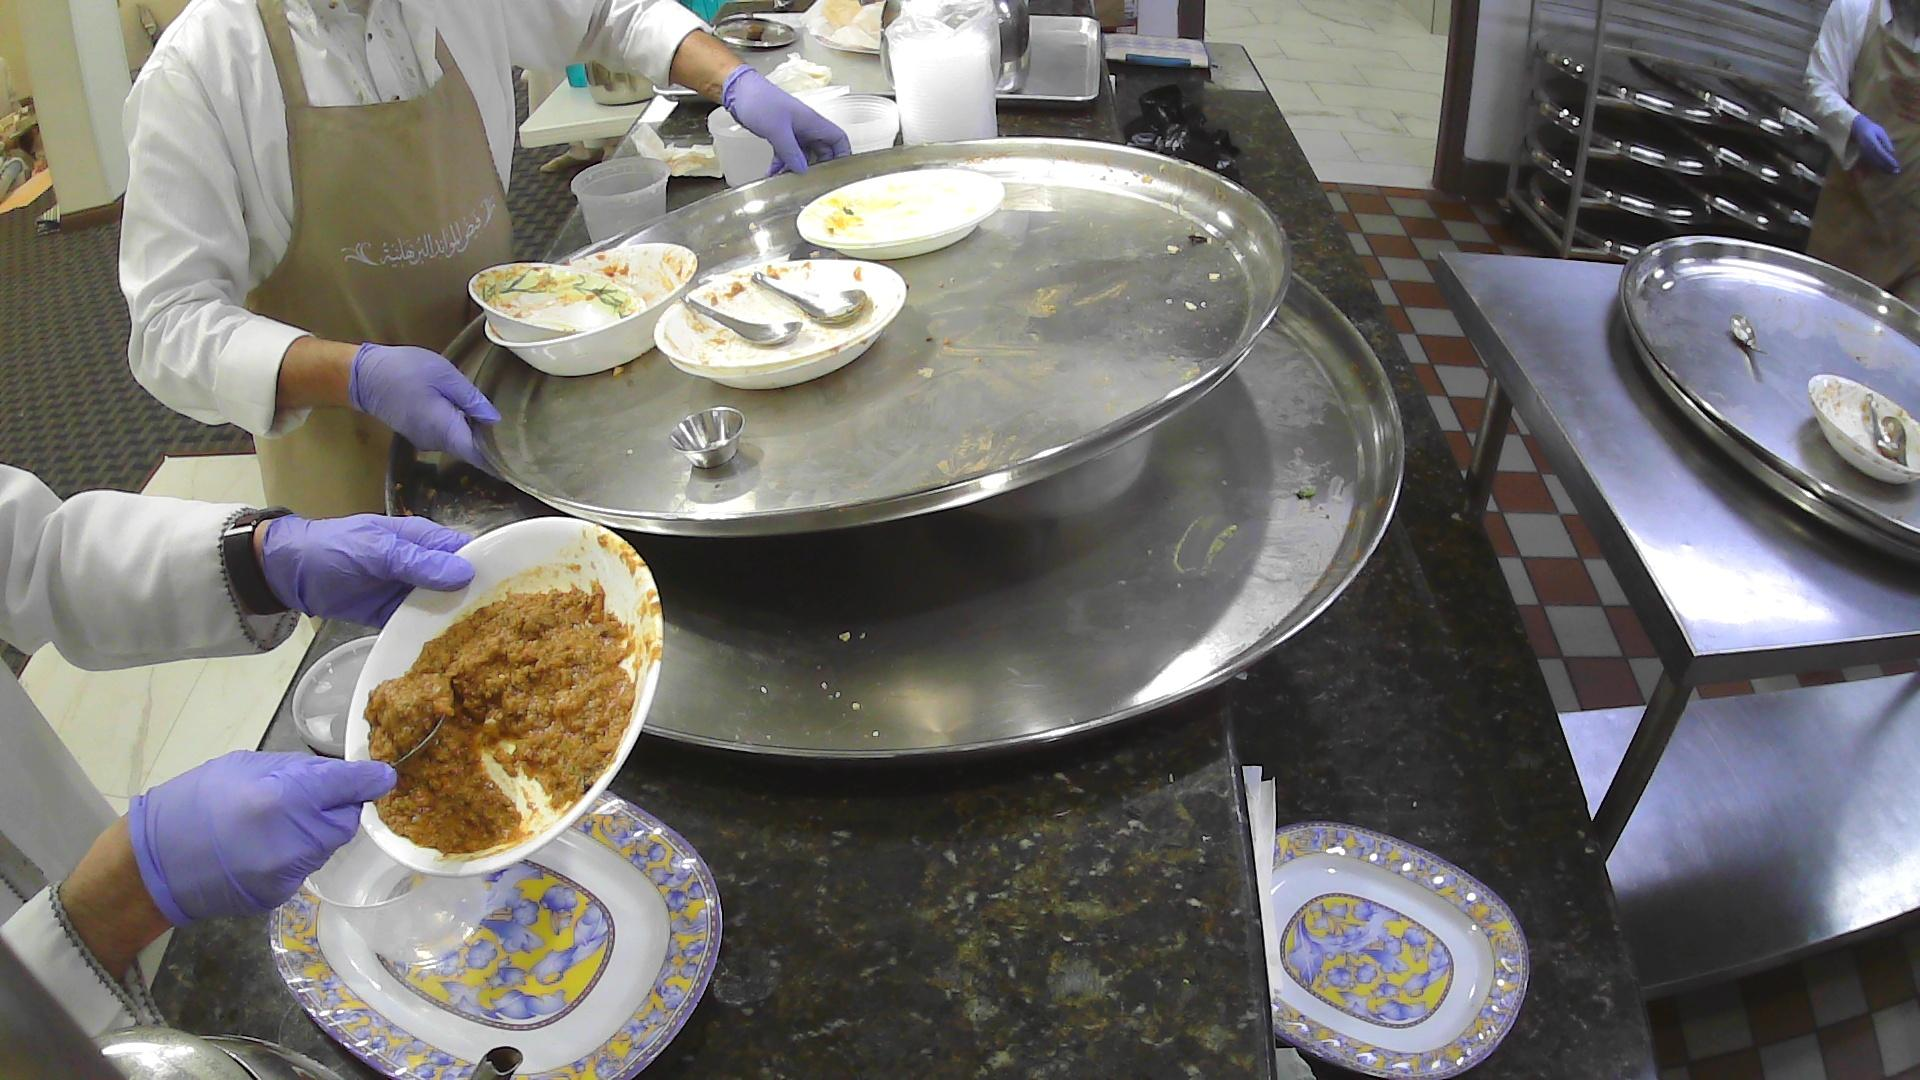thaal: (378, 220, 1412, 772), (466, 136, 1296, 540), (1608, 228, 1920, 578)
